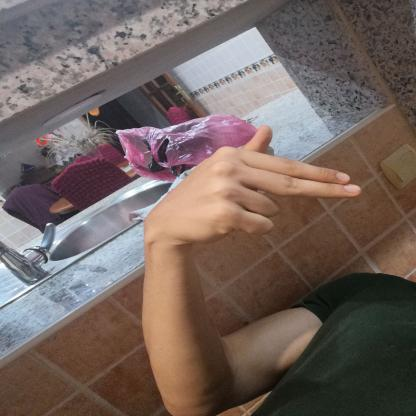GHAYN: (122, 112, 378, 259)
